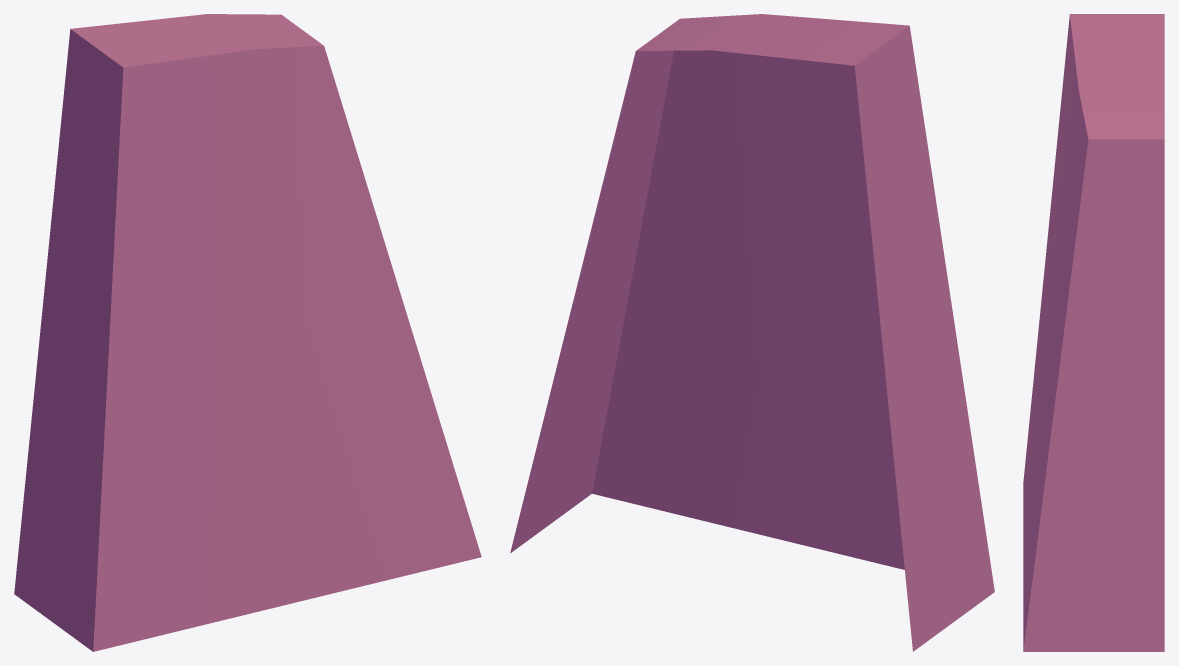
Rendered from Module_Rock_Mesh_05_v01.fbx.
The picture shows the model from 3 angles, left to right: view 1: azimuth 30°, elevation 25°; view 2: azimuth 150°, elevation 25°; view 3: azimuth 270°, elevation 25°; orthographic projection. The views are drawn at different scales.
Parts seen in each view (by area): view 1: Module_Rock_Mesh_05_v01; view 2: Module_Rock_Mesh_05_v01; view 3: Module_Rock_Mesh_05_v01.
Boxes of the visible parts, x1,y1,x2,y2 form: Module_Rock_Mesh_05_v01: [14, 14, 481, 651]; Module_Rock_Mesh_05_v01: [510, 14, 994, 651]; Module_Rock_Mesh_05_v01: [1023, 14, 1164, 651].
Size of the model in its own units: 221 by 300 by 77.86.
